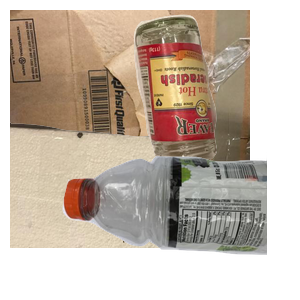cardboard: (10, 10, 250, 190)
glass: (131, 12, 300, 170)
plastic: (60, 152, 300, 300)
trash: (10, 120, 207, 300)
